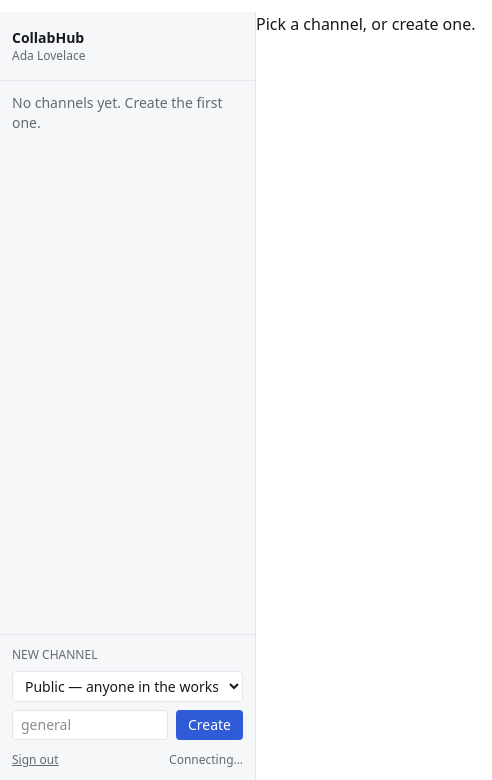
Test case: creating a channel from the chat shell › creates "team-42" and lands the user in it
Type "team-42" into the field labelled "New channel" at (90, 725), box [12, 710, 168, 740]
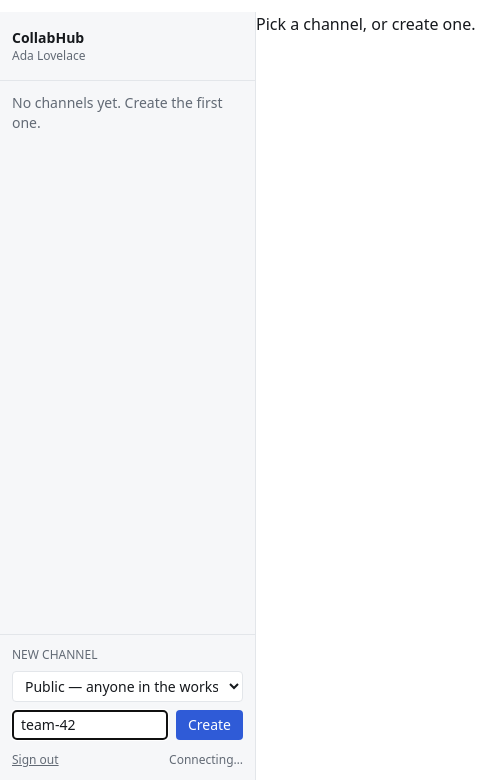
Click the button "Create" at (209, 725), box [176, 710, 243, 740]
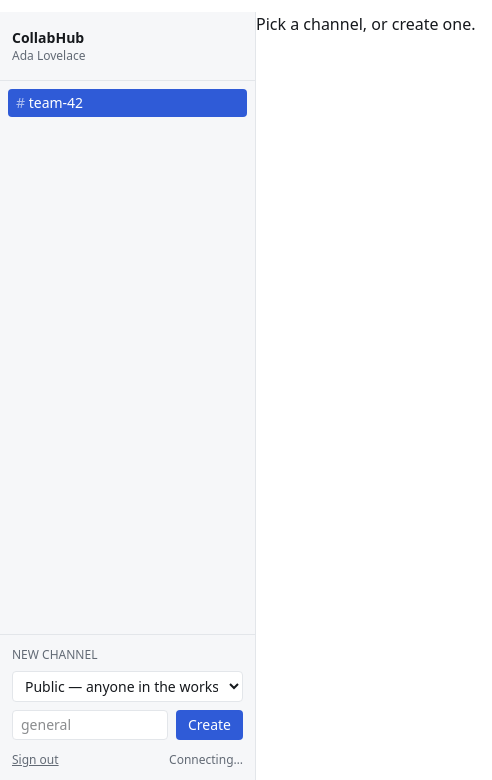
Expected: the field labelled "New channel" is empty, [12, 710, 168, 740]
Expected: the number of links is 1, [8, 89, 247, 117]
